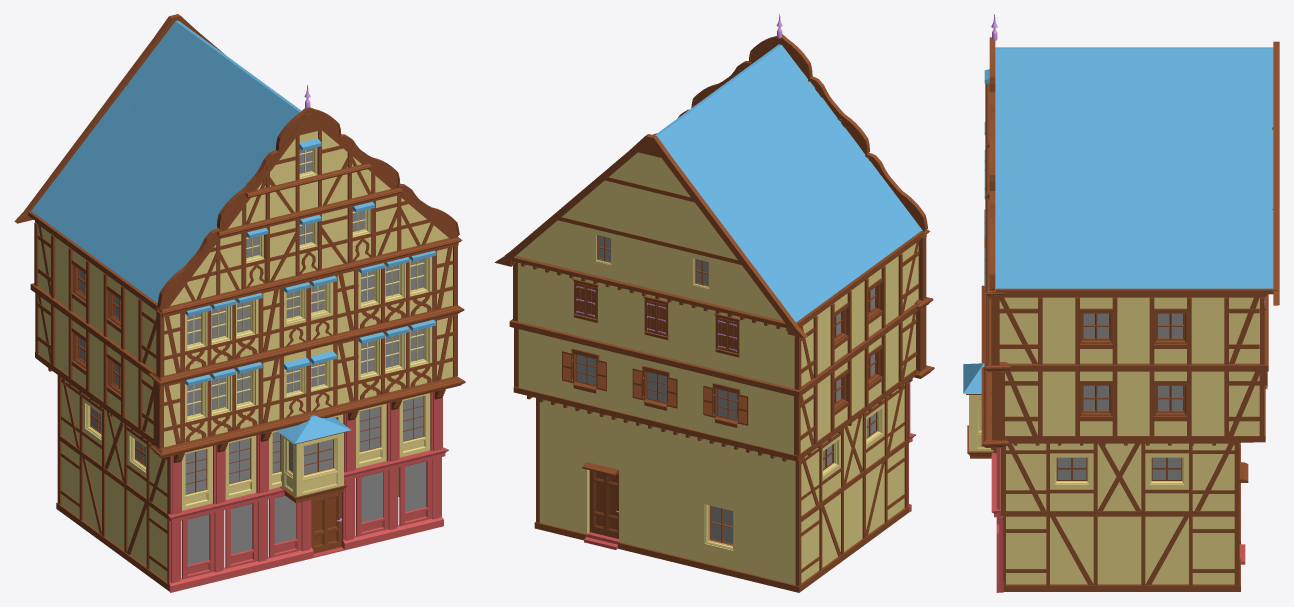
File: muwu11.FBX
3 renders of one model, left to right at view 1: azimuth 30°, elevation 25°; view 2: azimuth 150°, elevation 25°; view 3: azimuth 270°, elevation 25°, orthographic. The views are drawn at different scales.
Visible parts, largest first — view 1: HouseMD04_Wood_Beams, HouseMD04_PlasterYellow, HouseMD04_RoofTiles, HouseMD04_Stone_Stacked, HouseMD04_Glass, HouseMD04_Cloth, HouseMD04_WoodDark, HouseMD04_Mullions_Wood; view 2: HouseMD04_PlasterYellow, HouseMD04_Wood_Beams, HouseMD04_RoofTiles, HouseMD04_WoodDark (×2), HouseMD04_Glass, HouseMD04_Stone_Stacked; view 3: HouseMD04_RoofTiles, HouseMD04_PlasterYellow, HouseMD04_Wood_Beams, HouseMD04_Glass, HouseMD04_Stone_Stacked, HouseMD04_Mullions_Wood.
Boxes of the visible parts, x1,y1,x2,y2 form: HouseMD04_Wood_Beams: (14,14,465,590); HouseMD04_PlasterYellow: (38,131,452,581); HouseMD04_RoofTiles: (31,20,350,443); HouseMD04_Stone_Stacked: (168,392,448,592); HouseMD04_Glass: (79,148,426,564); HouseMD04_Cloth: (185,138,436,385); HouseMD04_WoodDark: (311,492,341,553); HouseMD04_Mullions_Wood: (90,396,424,494); HouseMD04_PlasterYellow: (516,73,918,584); HouseMD04_Wood_Beams: (494,34,934,592); HouseMD04_RoofTiles: (654,44,922,322); HouseMD04_WoodDark (×2): (562,235,748,545); HouseMD04_Glass: (576,235,875,544); HouseMD04_Stone_Stacked: (584,381,915,549); HouseMD04_RoofTiles: (963,47,1273,393); HouseMD04_PlasterYellow: (969,297,1259,584); HouseMD04_Wood_Beams: (966,37,1279,591); HouseMD04_Glass: (1057,313,1183,479); HouseMD04_Stone_Stacked: (991,447,1245,592); HouseMD04_Mullions_Wood: (1056,457,1182,480).
Bounding box in the file's own units: 11.73 × 16.76 × 9.48.
